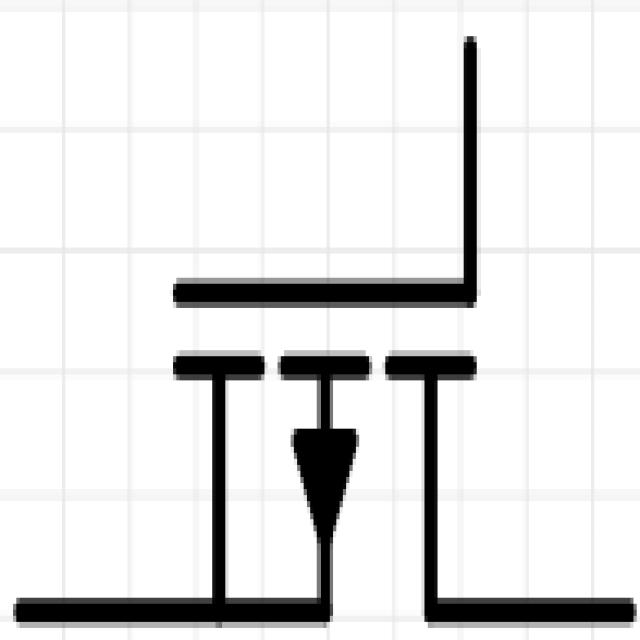pmos: (36, 41, 640, 640)
